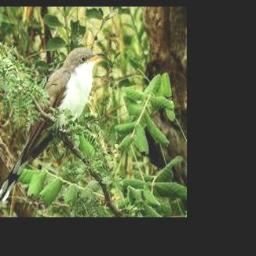Cuckoo: (0, 48, 107, 202)
